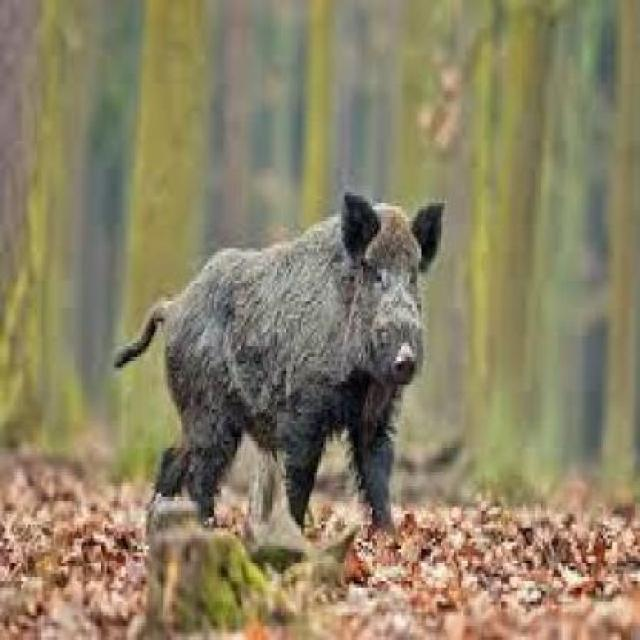wildboar: (99, 185, 453, 558)
